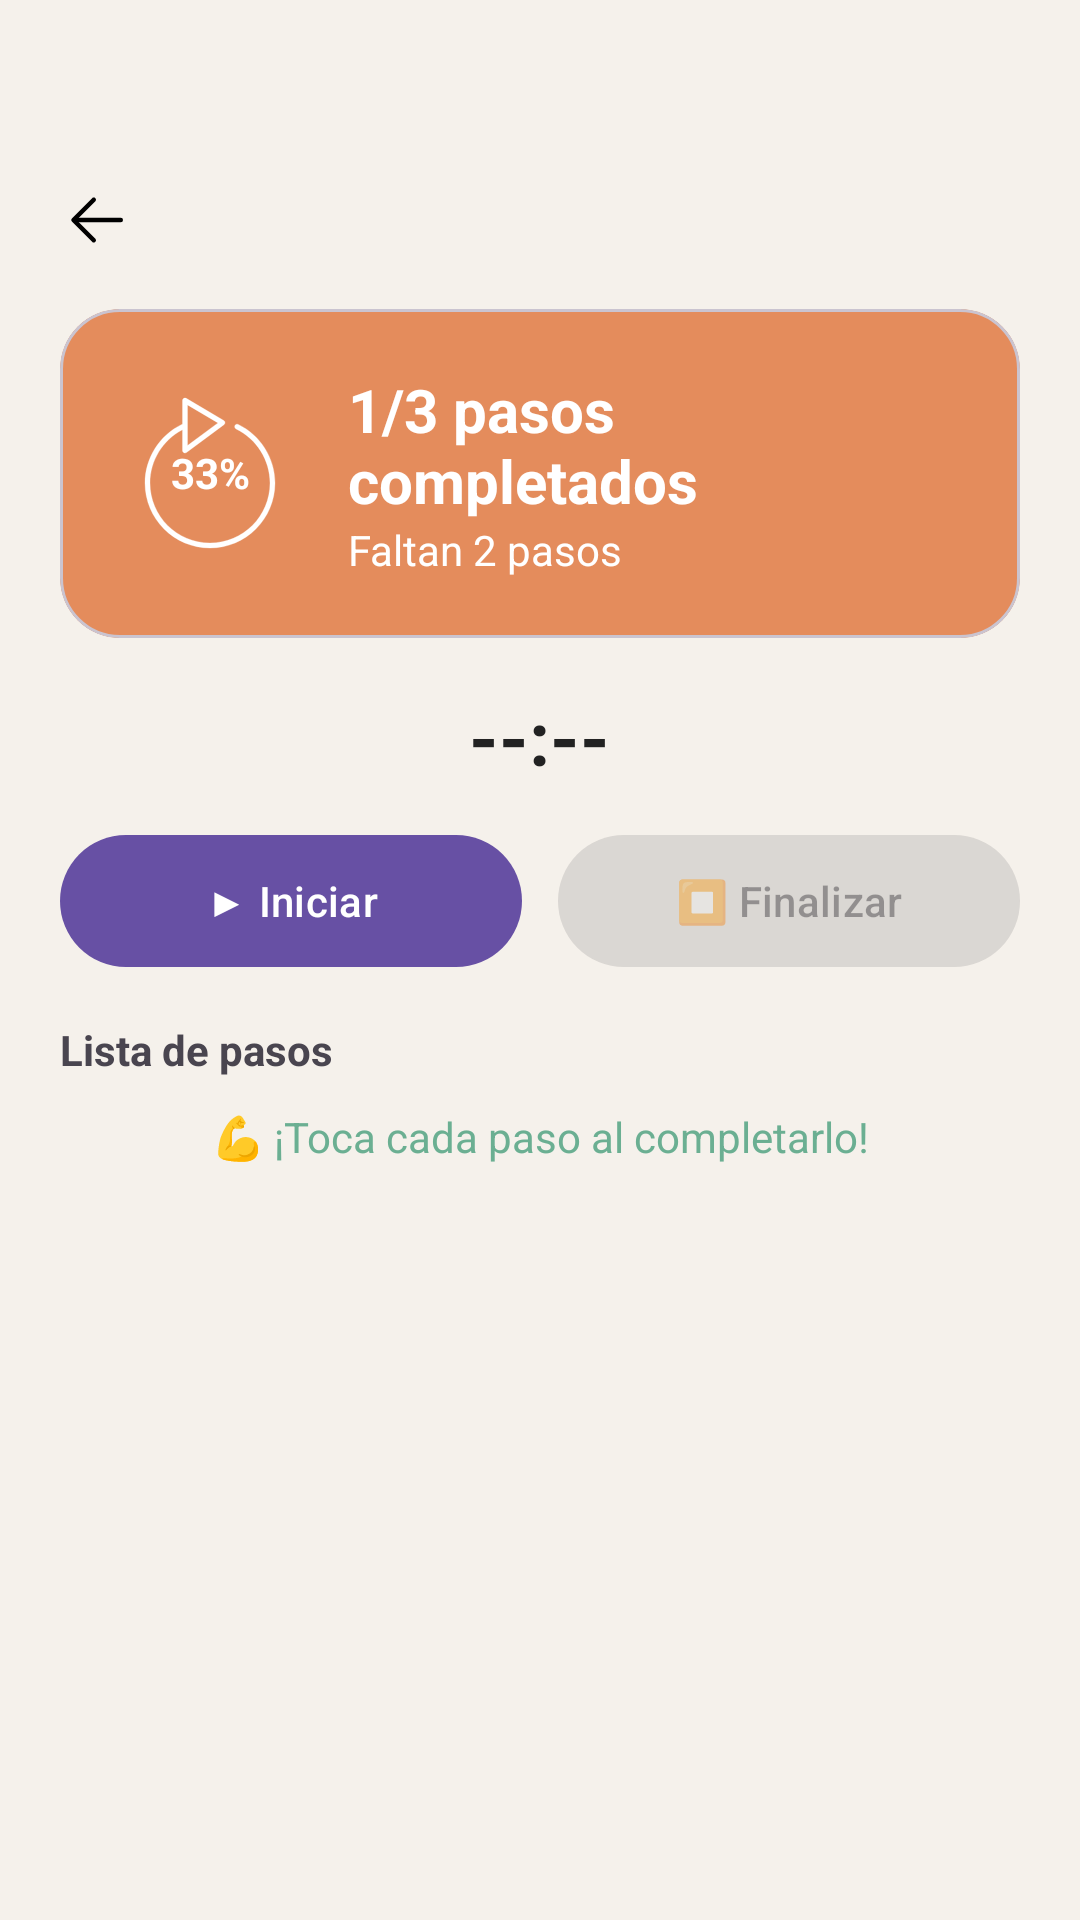

Where icons sit on this 1080w x 1920h app screen, as {"left": x1, "top": y1, "right": x2, "bottom": y2}:
back: {"left": 71, "top": 197, "right": 123, "bottom": 243}
